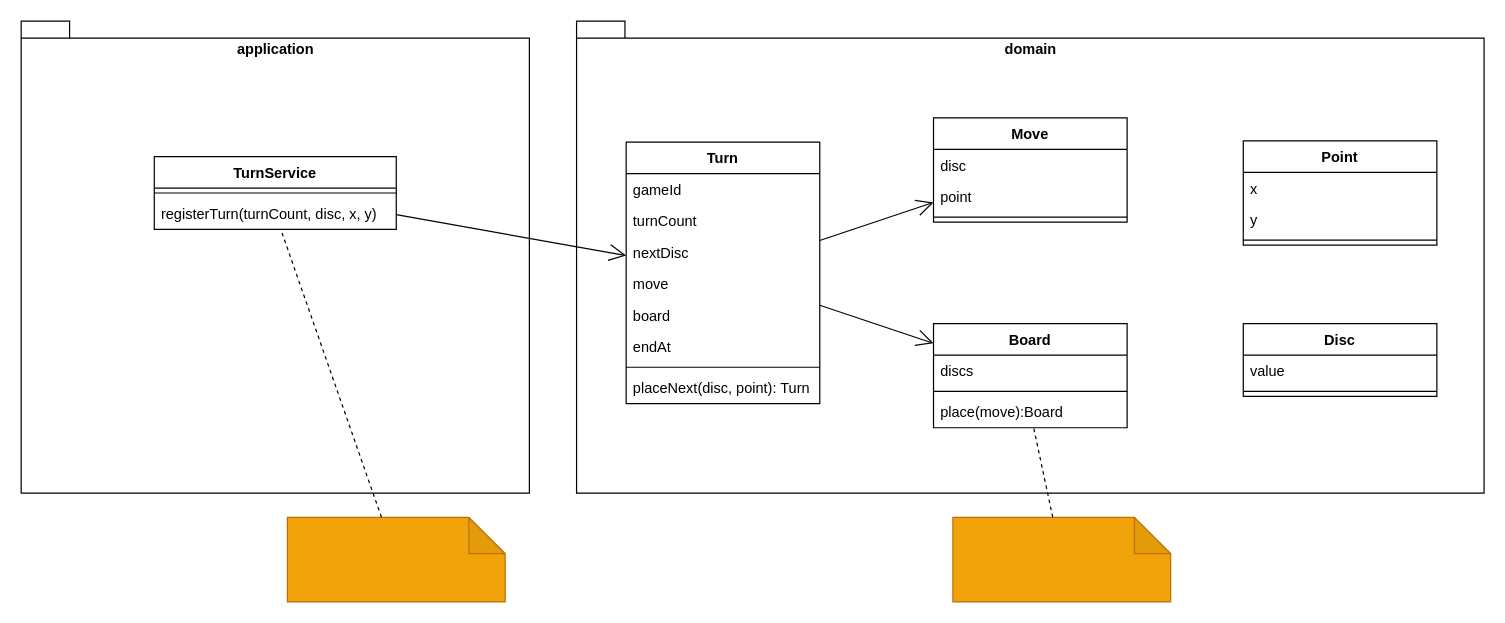
This 1505x623 diagram has some shape labels left out. Here are the shapes that lost their labels. From the top down, the centre of each, then its label:
At point (395, 559): "・1つ前のターンを取得する ・石を置く ・ターンを保存する".
At point (1061, 559): "placeの内部では ・盤面に置けるかチェック ・石を置く ・ひっくり返す".
